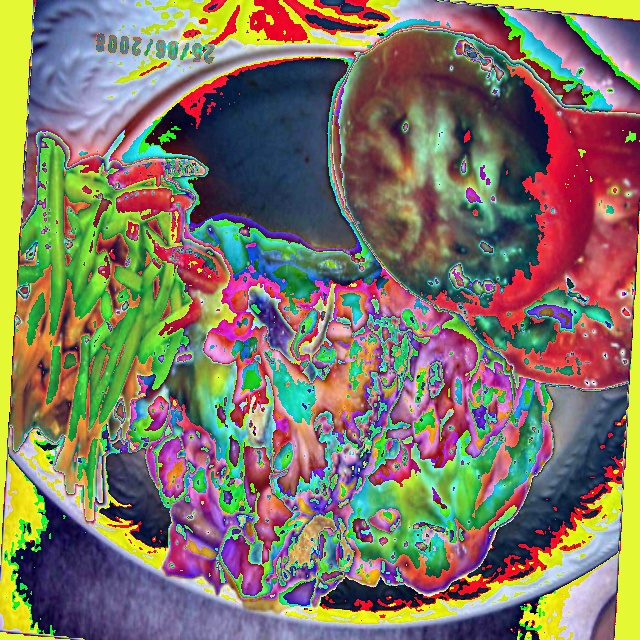background: (10, 29, 639, 614)
